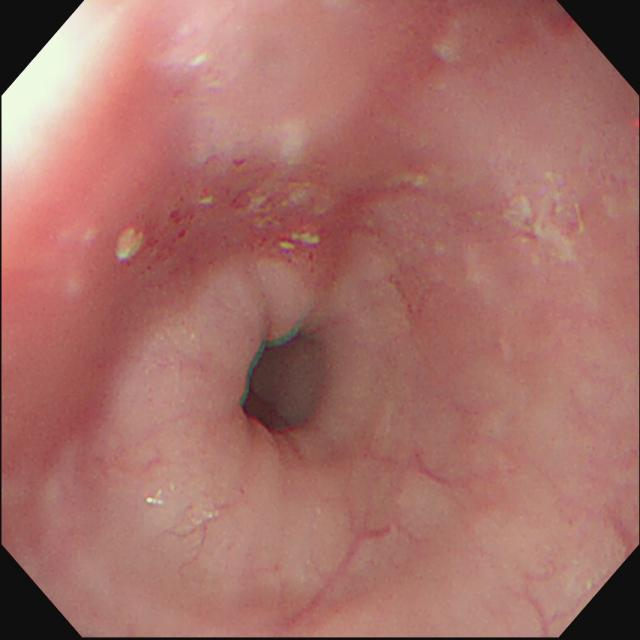A: (225, 187, 361, 288), (142, 197, 198, 274), (390, 274, 418, 321), (231, 156, 249, 169)
E: (245, 335, 330, 432)
J: (500, 174, 590, 270), (435, 21, 463, 68)
U: (117, 229, 143, 263), (279, 235, 322, 253)
